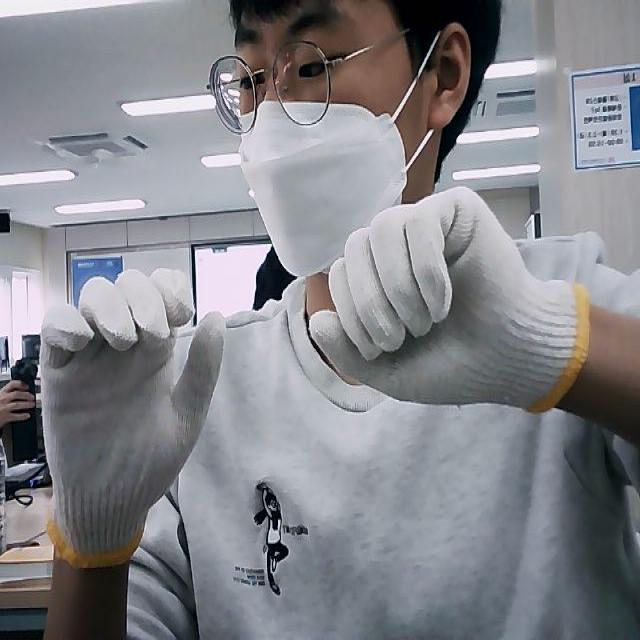gloves: (308, 188, 590, 410), (39, 264, 224, 565)
